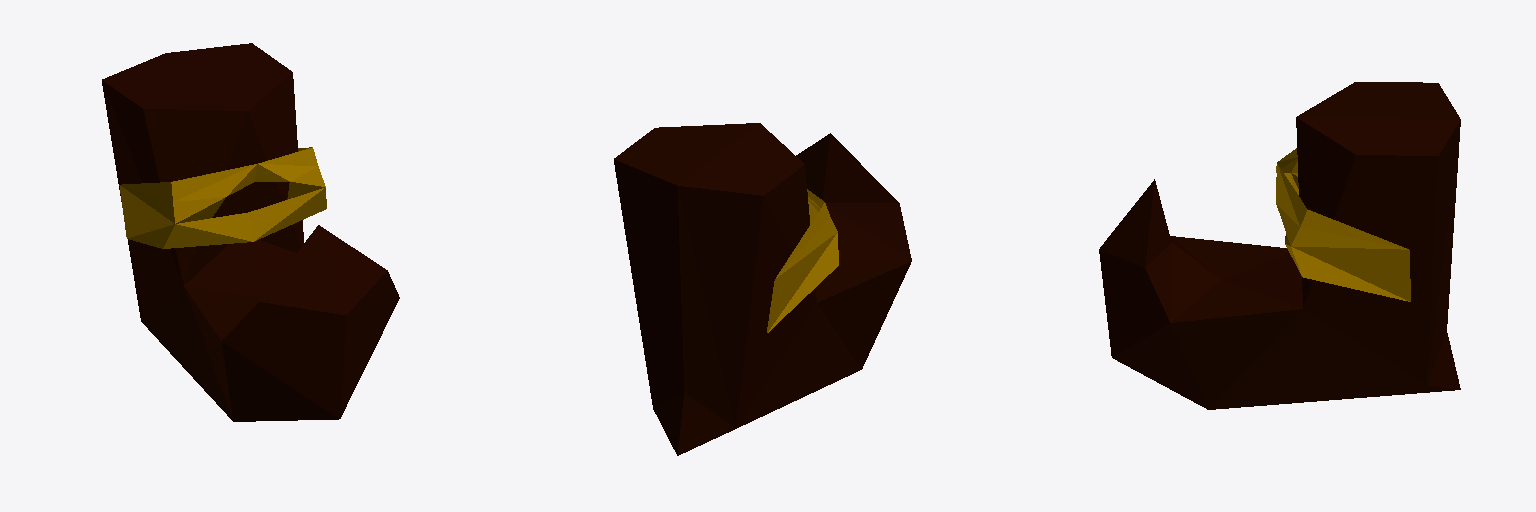
The model's file is boots.obj.
3 views of the same model, side by side, from view 1: azimuth 30°, elevation 25°; view 2: azimuth 150°, elevation 25°; view 3: azimuth 270°, elevation 25° (orthographic).
Parts seen in each view (by area): view 1: Cube, Cube.001; view 2: Cube, Cube.001; view 3: Cube, Cube.001.
Part boxes in pixels (x1,y1,x2,y2): Cube: (102,43,399,421); Cube.001: (119,147,326,248); Cube: (614,123,911,455); Cube.001: (767,189,838,332); Cube: (1099,82,1460,409); Cube.001: (1276,148,1410,301).
Size of the model in its own units: 1.31 by 1.94 by 2.29.